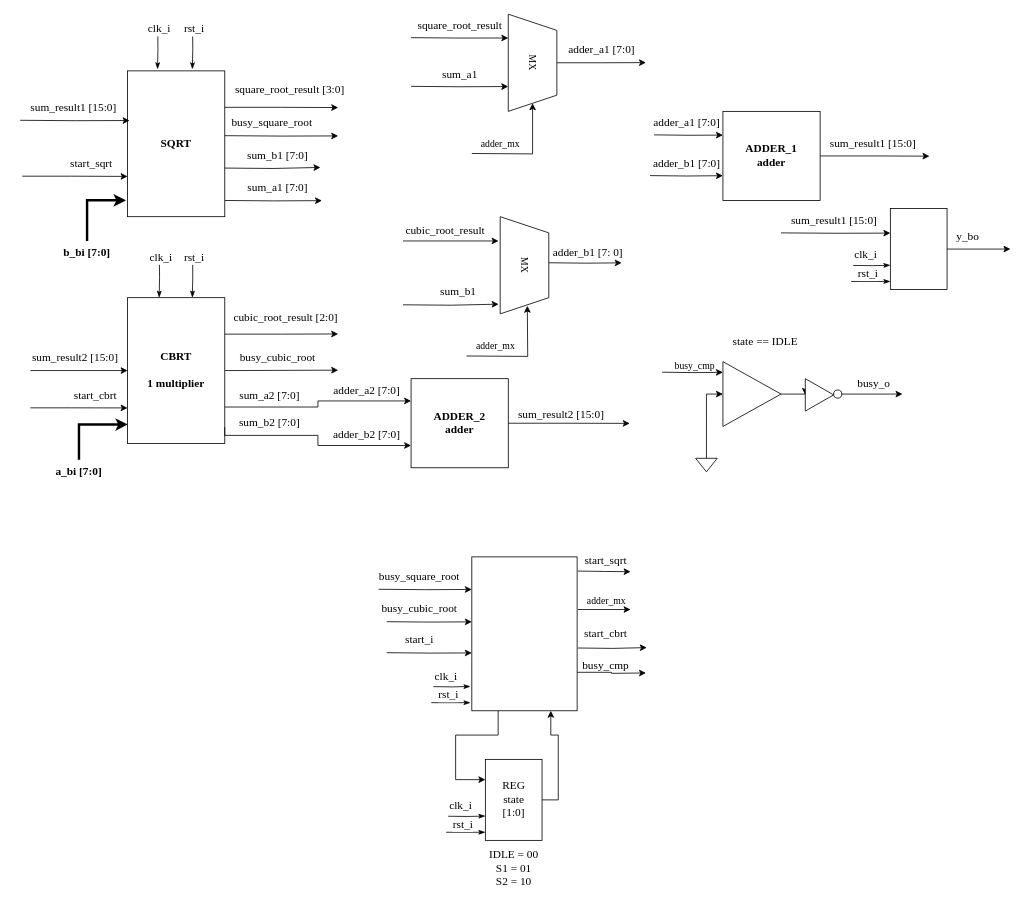
Some shapes in this 1031 by 903 pixel diagram are drawn without their labels. The shapes that lost their labels are listed below. From the top down, each one's centre as x and y in pixels, then its label:
point (918, 249): REG y_bo [4:0]
point (751, 393): CMP ==
point (524, 633): CONTROL UNIT
